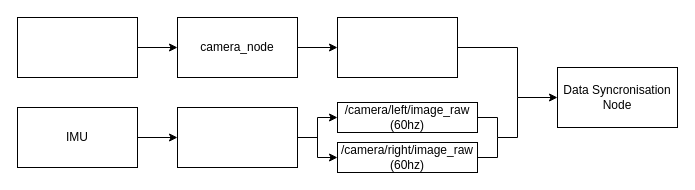
The diagram is 695 pixels wide and 190 high, and some of its shapes have lost their labels. The centre of each missing label's shape, as x and y in pixels:
/imu/data_raw (50-200hz): point (397, 47)
imu_node: point (237, 137)
Stereo Camera: point (77, 47)
